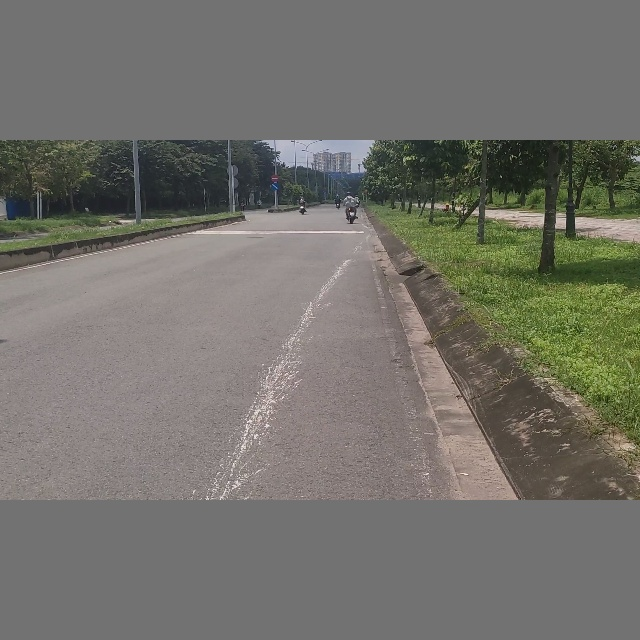P.102: (271, 174, 279, 182)
R.302a: (272, 183, 279, 190)
